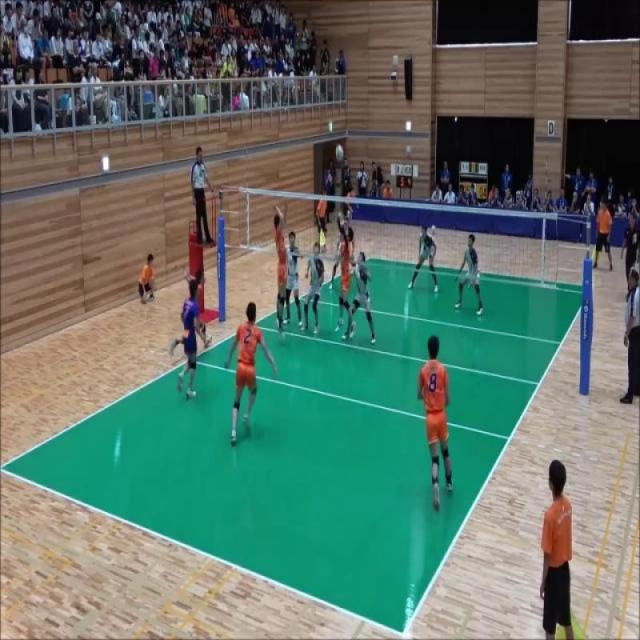volleyball: (336, 144, 344, 162), (430, 224, 437, 235)
